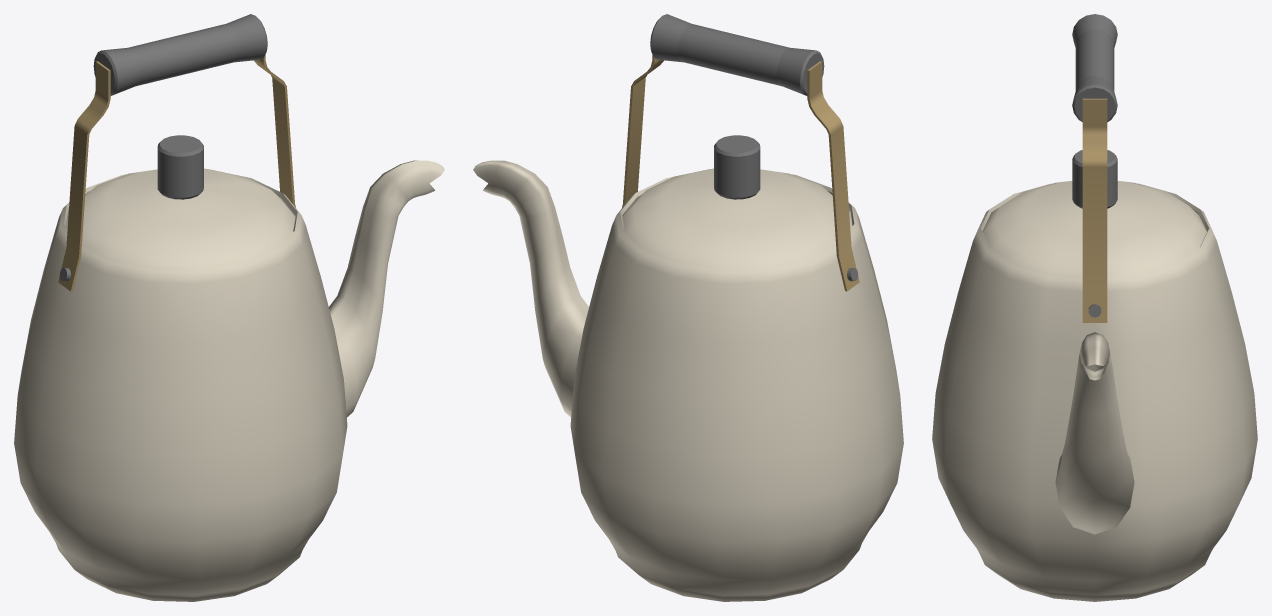
File: kettle.fbx
3 views of the same model, side by side, from view 1: azimuth 30°, elevation 25°; view 2: azimuth 150°, elevation 25°; view 3: azimuth 270°, elevation 25° (orthographic). The views are drawn at different scales.
Parts seen in each view (by area): view 1: kettle; view 2: kettle; view 3: kettle.
Boxes of the visible parts, left/top/right/bottom form: kettle: left=14, top=14, right=444, bottom=601; kettle: left=473, top=14, right=903, bottom=601; kettle: left=932, top=14, right=1257, bottom=601.
Size of the model in its own units: 16.02 by 19.67 by 11.42.
